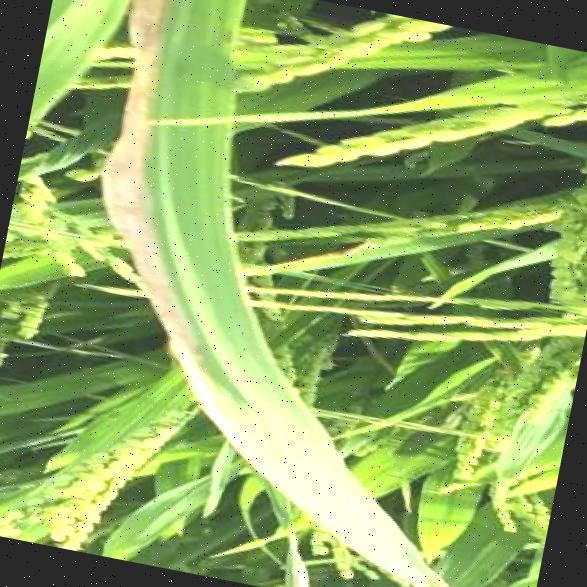Bacteria_Leaf_Blight: (72, 0, 258, 306)
